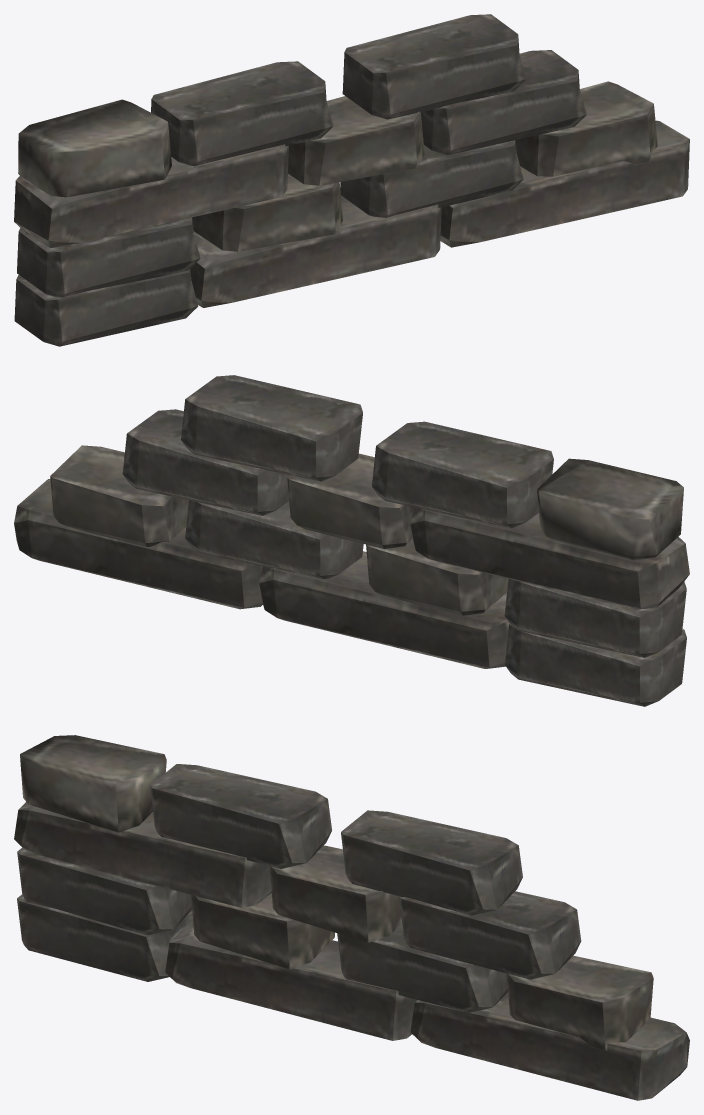
Rendered from SC_SLstone11.FBX.
The picture shows the model from 3 angles, top to bottom: view 1: azimuth 30°, elevation 25°; view 2: azimuth 150°, elevation 25°; view 3: azimuth 330°, elevation 25°; orthographic projection.
Parts seen in each view (by area): view 1: SC_SLstone011; view 2: SC_SLstone011; view 3: SC_SLstone011.
Boxes of the visible parts, x1=… form: SC_SLstone011: x1=14, y1=14, x2=689, y2=346; SC_SLstone011: x1=14, y1=375, x2=689, y2=706; SC_SLstone011: x1=14, y1=735, x2=689, y2=1100.
Bounding box in the file's own units: 4.52 × 1.34 × 0.5953.
